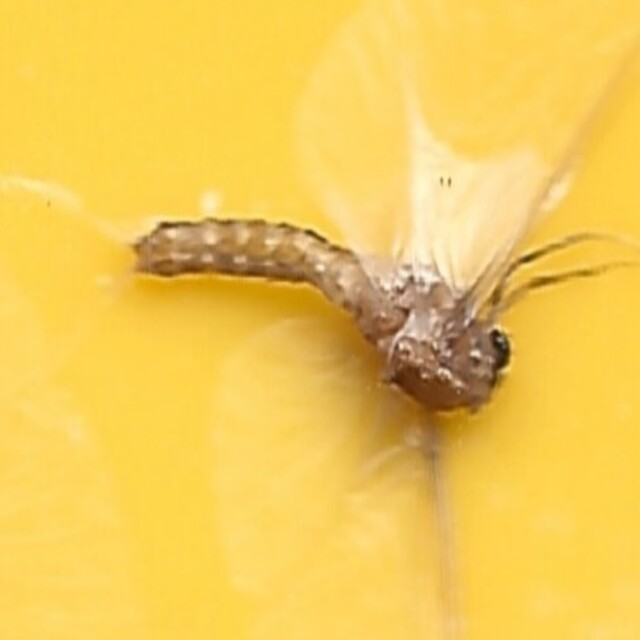Ephemeroptera: (130, 207, 510, 433)
